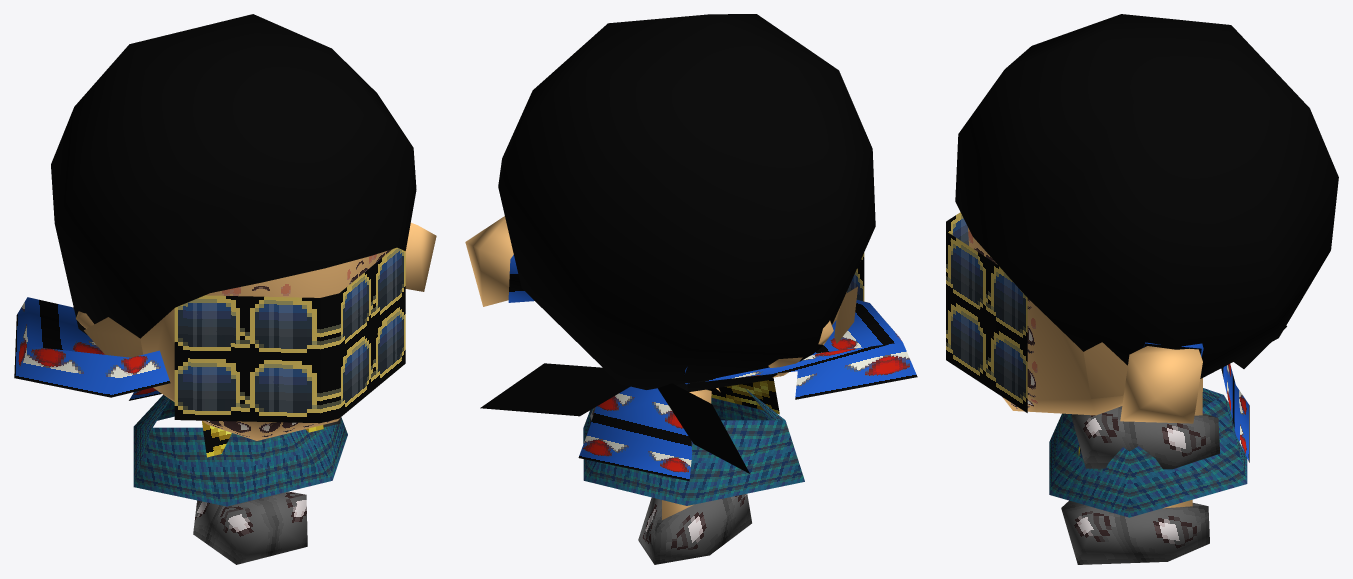
The picture shows the model from 3 angles, left to right: view 1: azimuth 30°, elevation 25°; view 2: azimuth 150°, elevation 25°; view 3: azimuth 270°, elevation 25°; orthographic projection. The views are drawn at different scales.
Parts seen in each view (by area): view 1: pmd65_00_01; view 2: pmd65_00_01; view 3: pmd65_00_01.
Boxes of the visible parts, <box> form: pmd65_00_01: <box>14,14,436,564</box>; pmd65_00_01: <box>465,14,917,564</box>; pmd65_00_01: <box>946,14,1338,564</box>.
Bounding box in the file's own units: 1.22 × 1.33 × 0.9336.
Materials: 8 (8 with a texture image).
